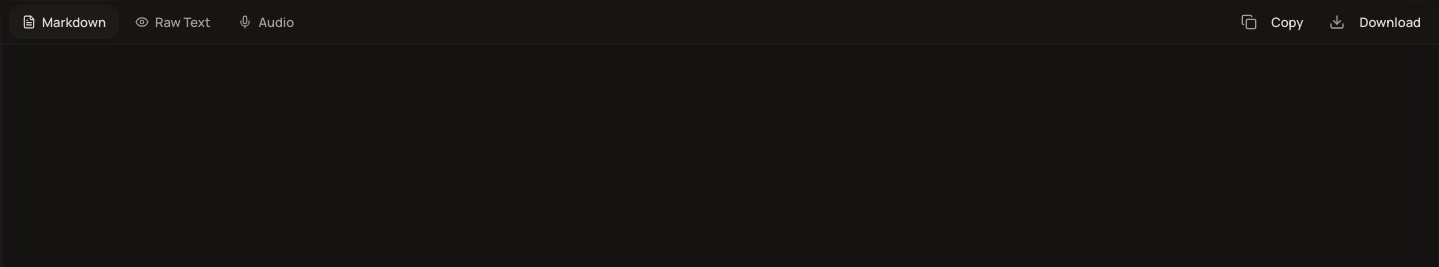
Scenario: OutputViewer component › renders audio inspection when backend returns metadata without inline text
What coordinates should you click on to do the following:
click the button "Audio"
I would click on:
 (266, 22)
Its box is 226,5 -> 306,39.
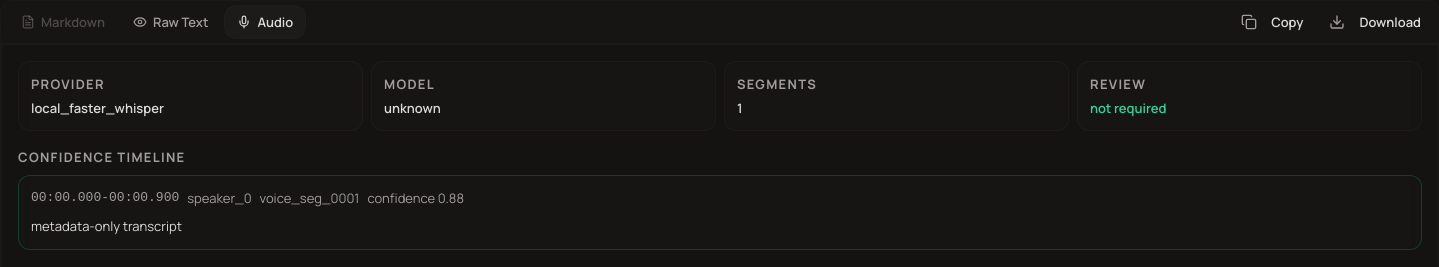
Check: the text "metadata-only transcript" is shown, box 31,217 -> 182,235
